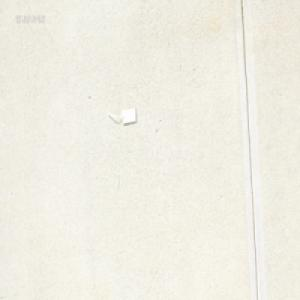LuggageTag: (106, 107, 136, 124)
